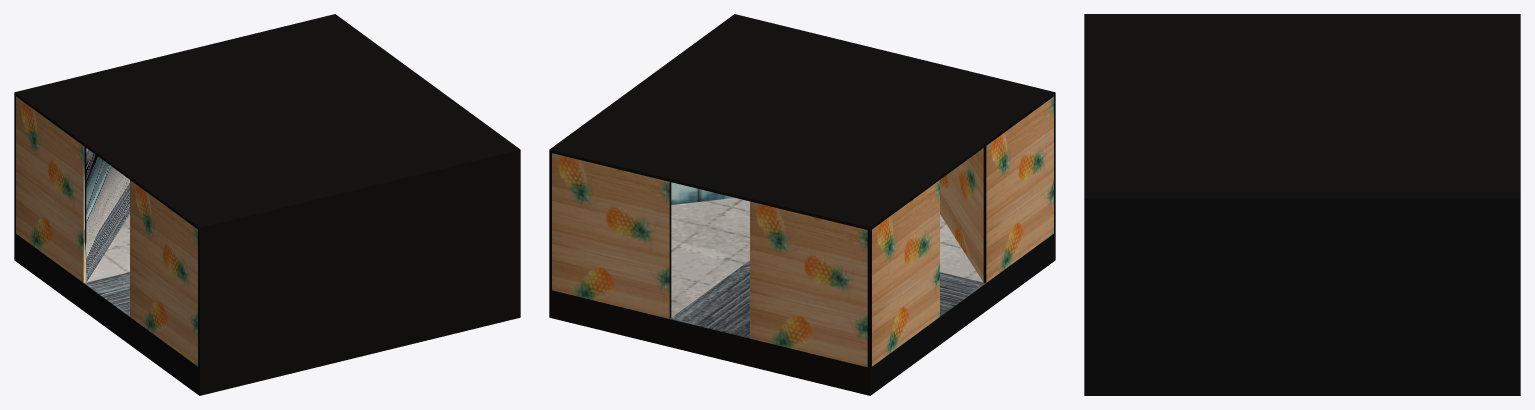
Rendered from right.obj.
3 views of the same model, side by side, from view 1: azimuth 30°, elevation 25°; view 2: azimuth 150°, elevation 25°; view 3: azimuth 270°, elevation 25° (orthographic). The views are drawn at different scales.
Parts seen in each view (by area): view 1: Right; view 2: Right; view 3: Right.
Boxes of the visible parts, left/top/right/bottom form: Right: left=14, top=14, right=520, bottom=395; Right: left=549, top=14, right=1055, bottom=395; Right: left=1084, top=14, right=1520, bottom=395.
Bounding box in the file's own units: 12 × 6 × 12.
Materials: 1 (1 with a texture image).
